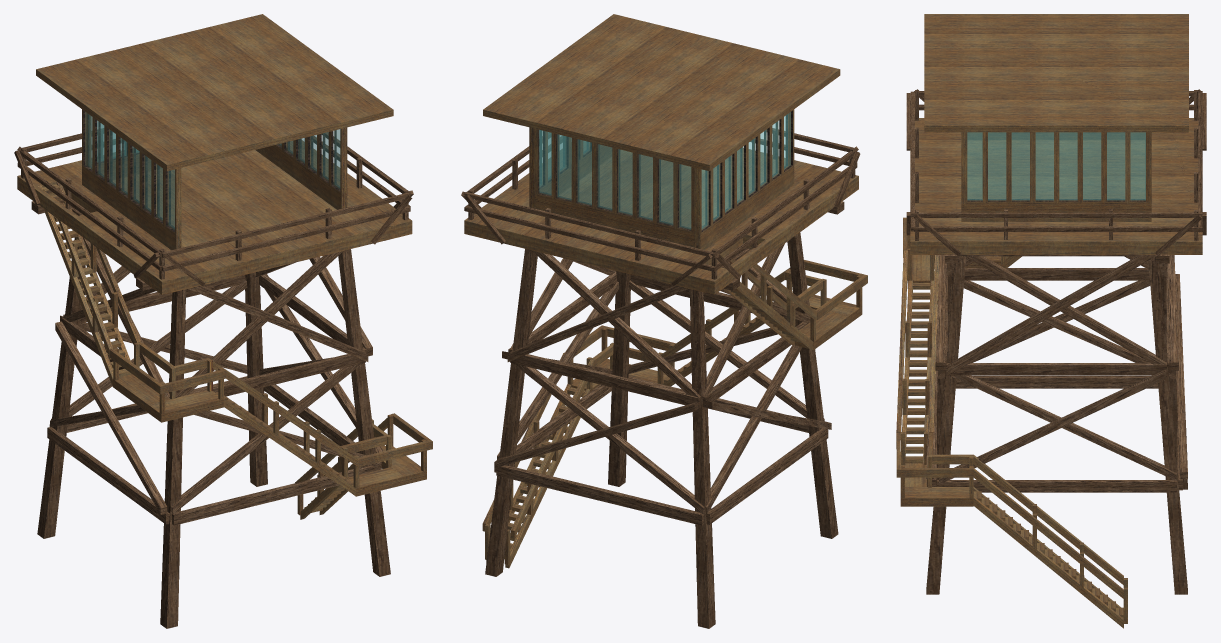
The model's file is watchtower.fbx.
3 views of the same model, side by side, from view 1: azimuth 30°, elevation 25°; view 2: azimuth 150°, elevation 25°; view 3: azimuth 270°, elevation 25° (orthographic).
Parts seen in each view (by area): view 1: pCube119; view 2: pCube119; view 3: pCube119.
Part boxes in pixels (<box>): pCube119: <box>14,14,432,628</box>; pCube119: <box>461,14,867,628</box>; pCube119: <box>896,14,1206,628</box>.
Bounding box in the file's own units: 36.85 × 61.68 × 35.46.
